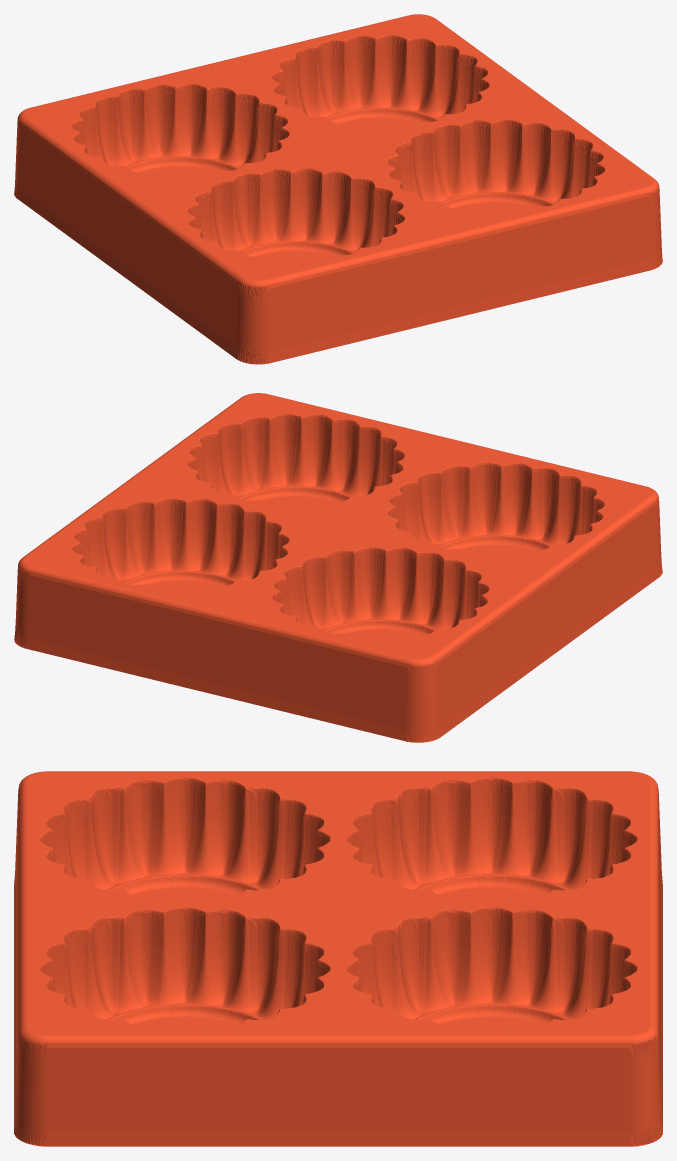
The model's file is mold.glb.
3 views of the same model, one above another, from view 1: azimuth 30°, elevation 25°; view 2: azimuth 150°, elevation 25°; view 3: azimuth 270°, elevation 25° (orthographic). The views are drawn at different scales.
Parts seen in each view (by area): view 1: geometry_0; view 2: geometry_0; view 3: geometry_0.
Boxes of the visible parts, box(x1,y1,x2,y2) form: geometry_0: box(14, 14, 662, 364); geometry_0: box(14, 393, 662, 742); geometry_0: box(14, 771, 662, 1146).
Size of the model in its own units: 0.1721 by 0.031 by 0.1721.
